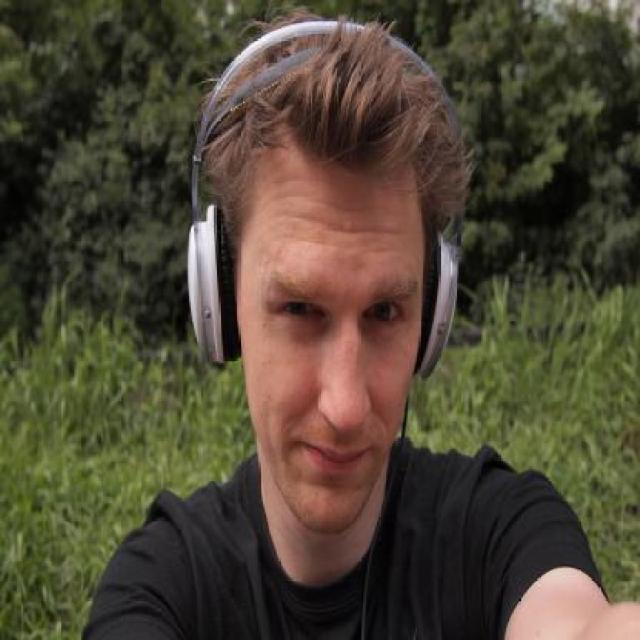earphone: (90, 6, 490, 369)
